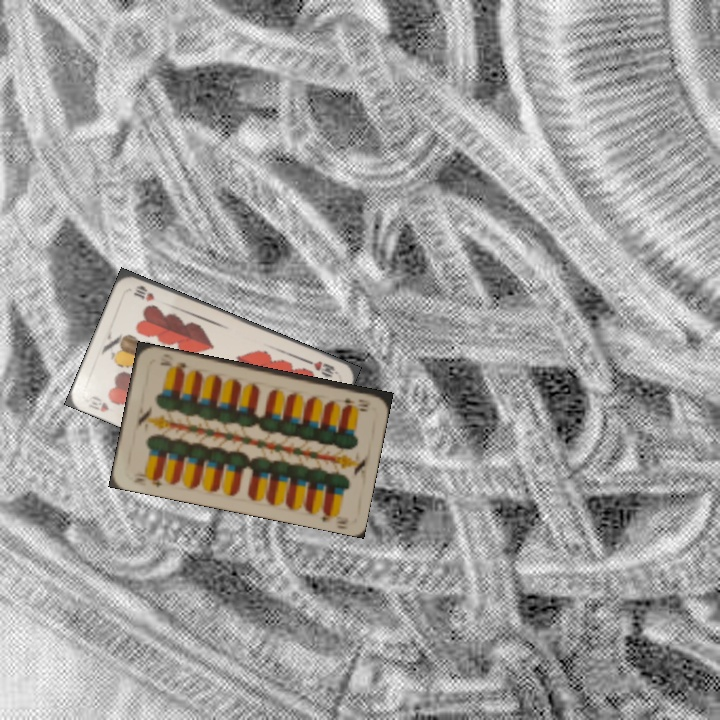E10: (129, 472, 165, 490), (340, 395, 373, 410)
H10: (302, 355, 341, 380), (82, 392, 112, 415)
